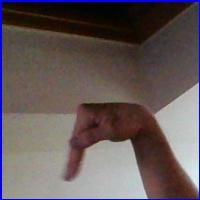A: (59, 98, 156, 186)
